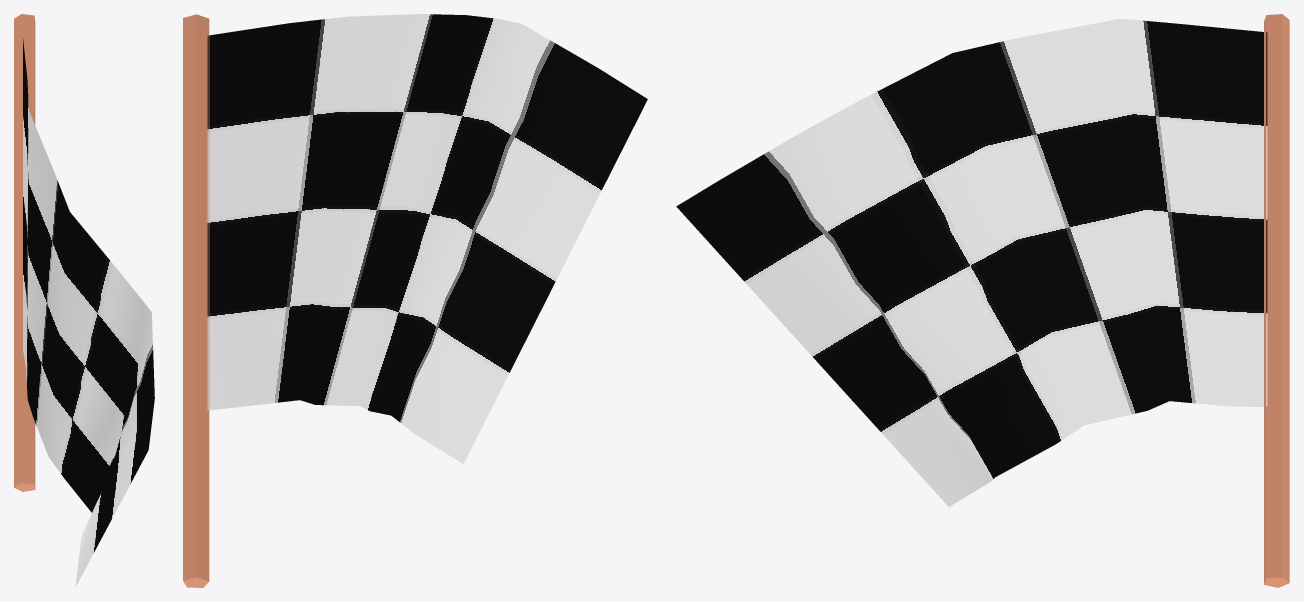
Rendered from ps2_save-icons_f1championshipseason2000.glb.
3 views of the same model, side by side, from view 1: azimuth 30°, elevation 25°; view 2: azimuth 150°, elevation 25°; view 3: azimuth 270°, elevation 25° (orthographic). The views are drawn at different scales.
Visible parts, largest first — view 1: SLIME1.ICO; view 2: SLIME1.ICO; view 3: SLIME1.ICO.
Boxes of the visible parts, x1=… form: SLIME1.ICO: x1=14, y1=14, x2=154, y2=587; SLIME1.ICO: x1=183, y1=14, x2=647, y2=587; SLIME1.ICO: x1=676, y1=14, x2=1289, y2=587.
Bounding box in the file's own units: 0.6855 × 2.25 × 2.22.
Materials: 1 (1 with a texture image).
